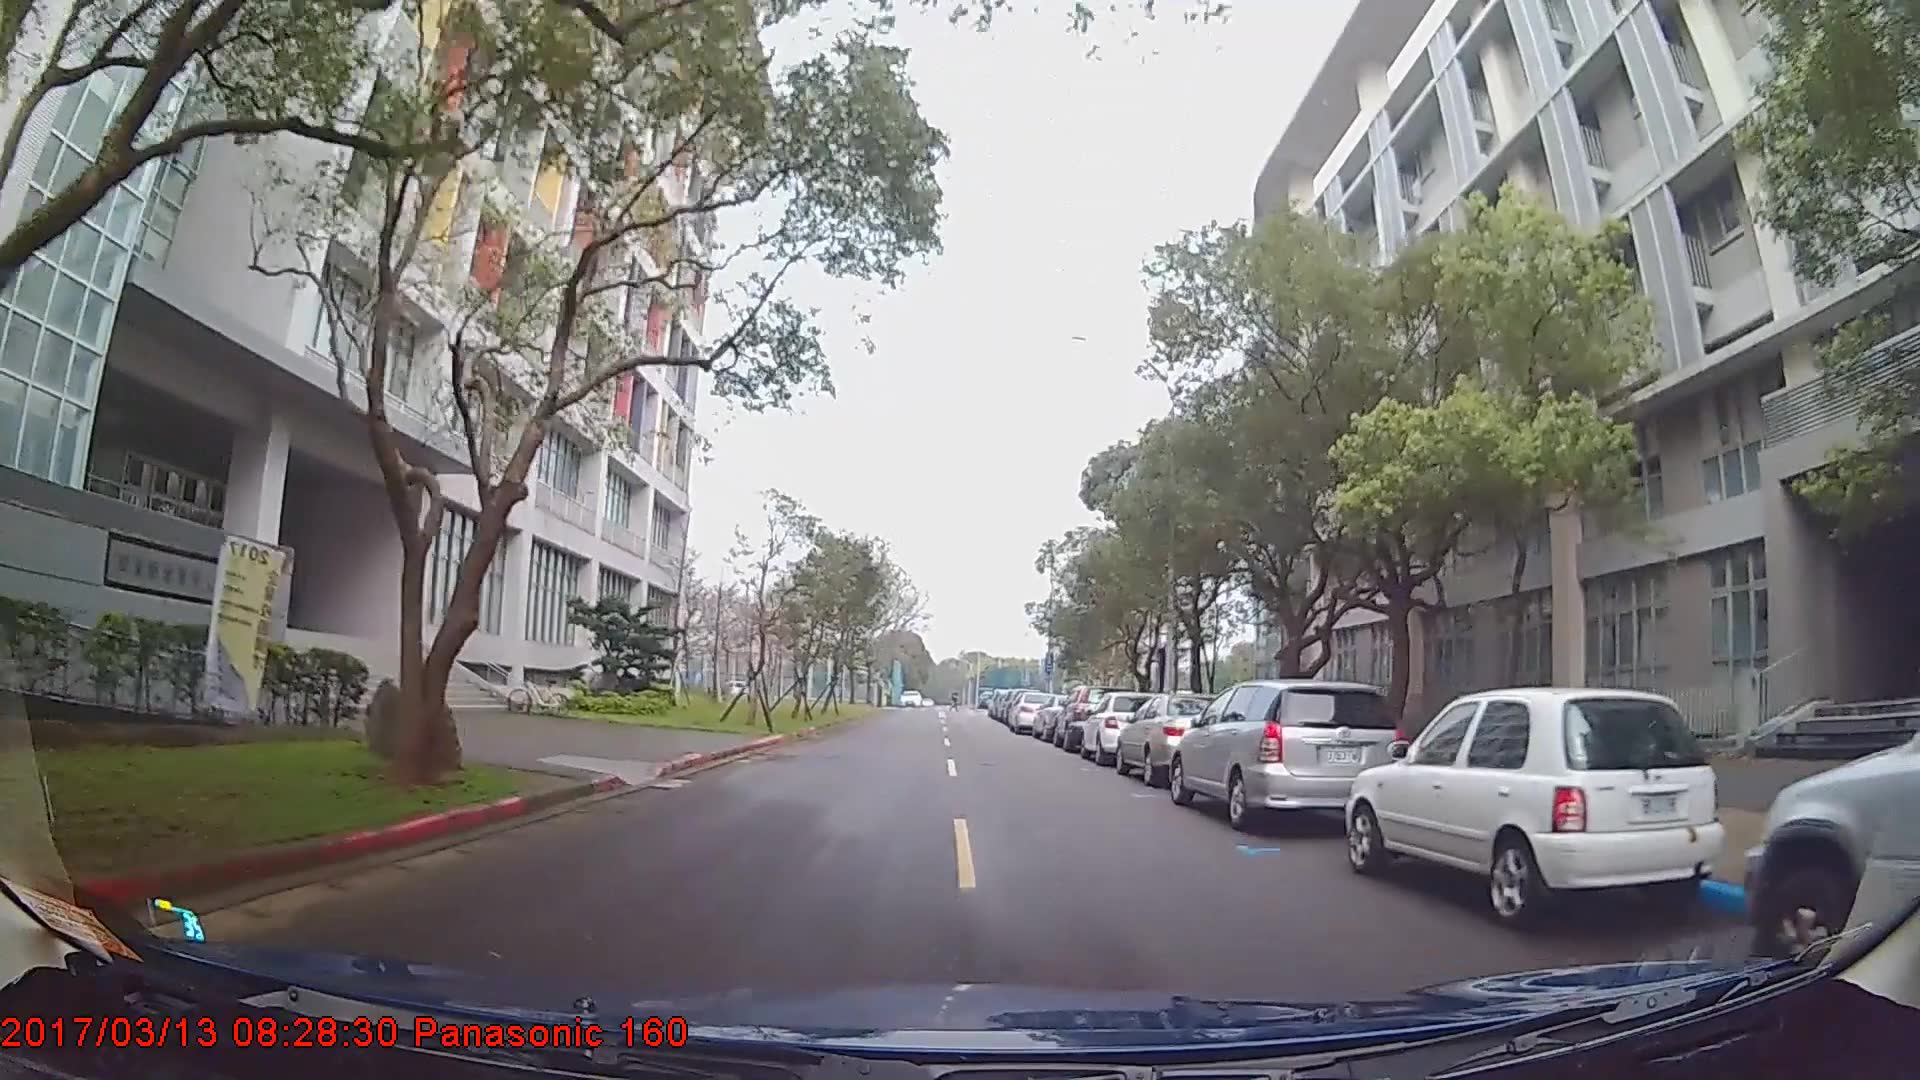vehicle: (1345, 684, 1726, 927), (1167, 678, 1403, 829), (1114, 690, 1245, 785), (1077, 688, 1160, 764), (1006, 687, 1060, 735)
